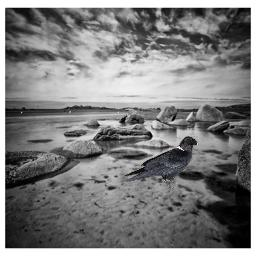Crow: (122, 136, 199, 191)
